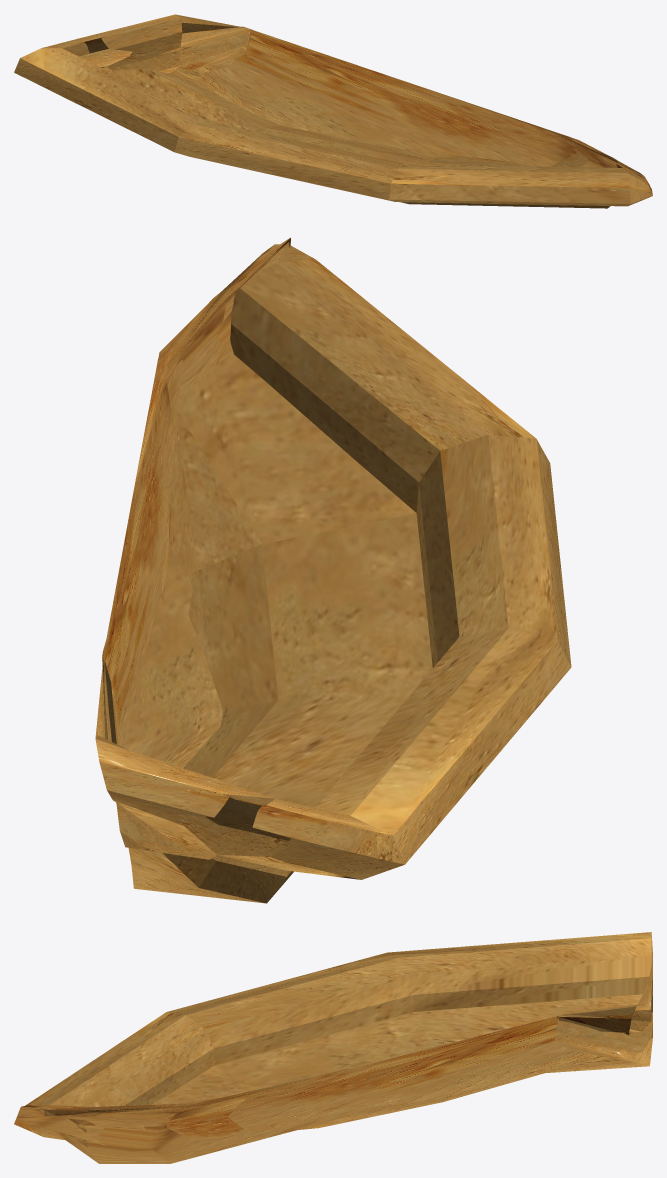
The model's file is sugarpoly3.gltf.
3 renders of one model, top to bottom at view 1: azimuth 30°, elevation 25°; view 2: azimuth 150°, elevation 25°; view 3: azimuth 270°, elevation 25°, orthographic. The views are drawn at different scales.
Parts seen in each view (by area): view 1: 평면; view 2: 평면; view 3: 평면.
Part boxes in pixels (left/top/right/bottom): 평면: left=14, top=14, right=652, bottom=208; 평면: left=95, top=237, right=571, bottom=903; 평면: left=14, top=932, right=652, bottom=1163.
Size of the model in its own units: 0.5351 by 0.1093 by 0.7755.
1 material, 1 textured.
